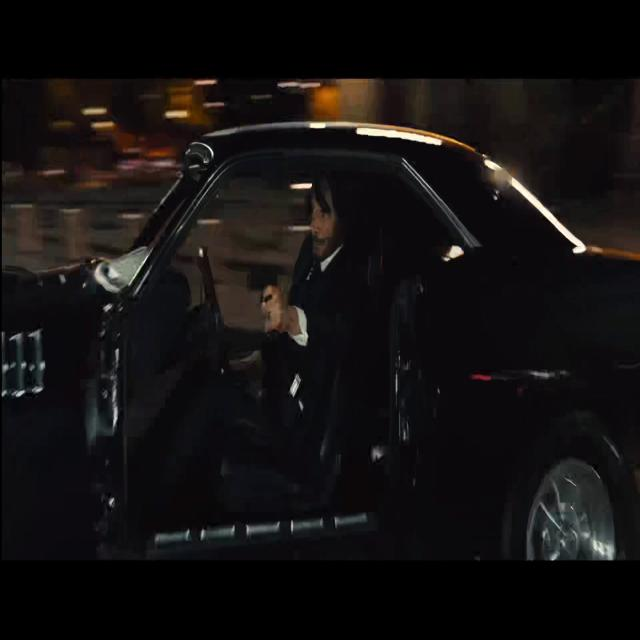weapons: (238, 243, 292, 342)
